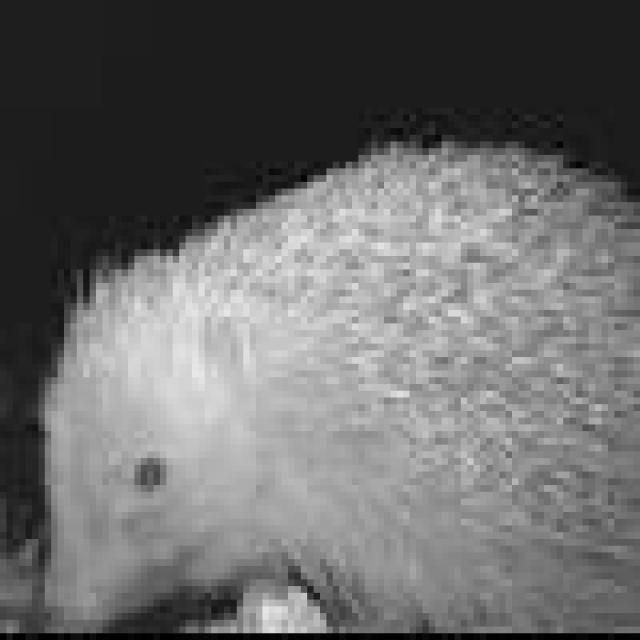Hedgehog: (33, 133, 640, 628)
